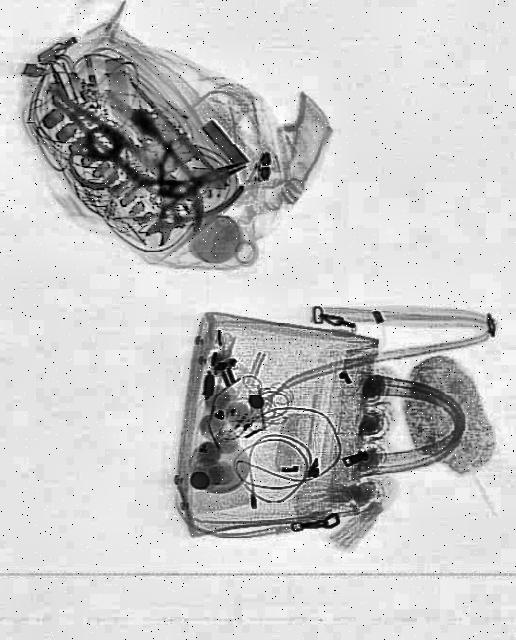Pliers: (122, 135, 244, 275), (126, 146, 254, 230)
